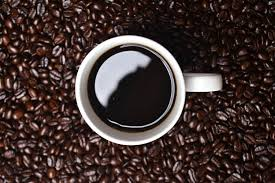kahve: (74, 35, 189, 144)
